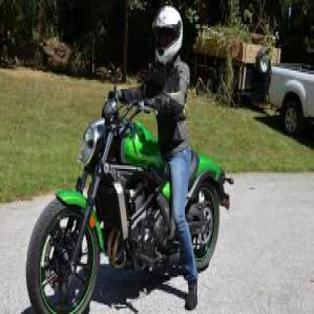Motocicleta: (26, 99, 234, 312)
